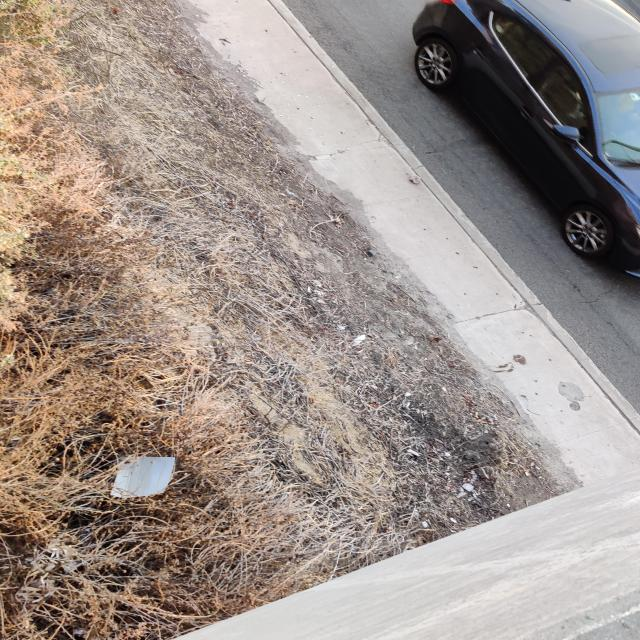litter: (111, 456, 176, 495)
